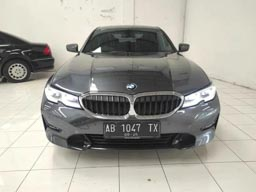plat: (103, 121, 159, 133)
